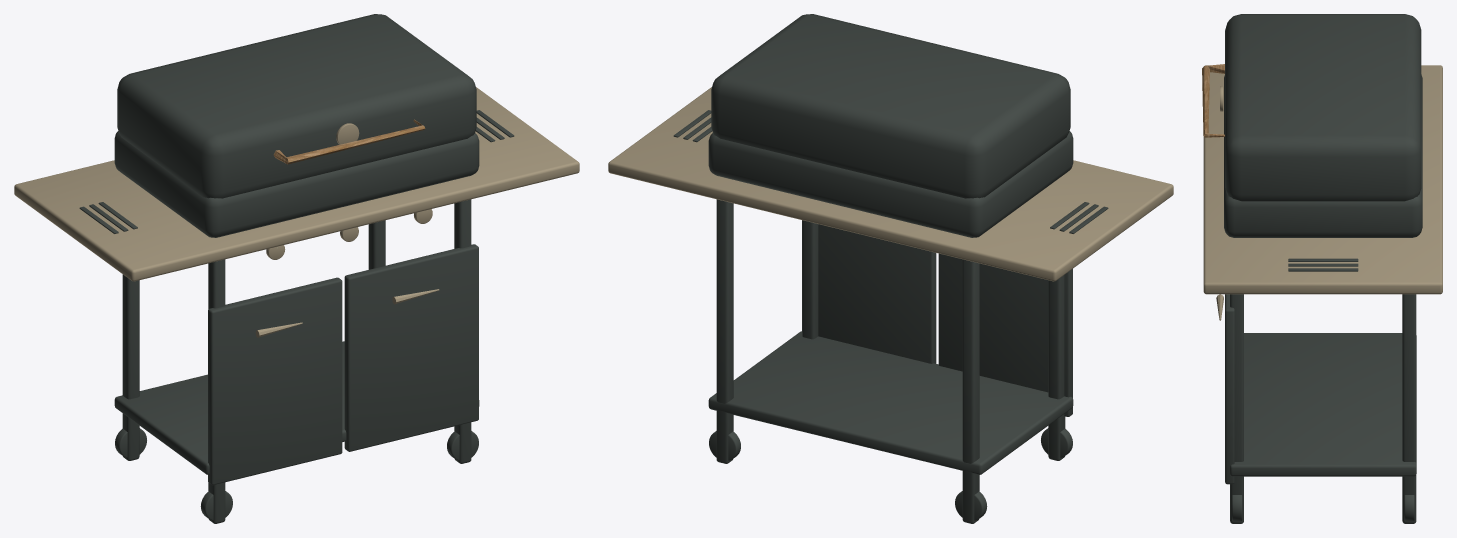
The model's file is gas-bbq.glb.
3 renders of one model, left to right at view 1: azimuth 30°, elevation 25°; view 2: azimuth 150°, elevation 25°; view 3: azimuth 270°, elevation 25°, orthographic.
Parts seen in each view (by area): view 1: catalog_surface_RealismUV; view 2: catalog_surface_RealismUV; view 3: catalog_surface_RealismUV.
Boxes of the visible parts, x1=… form: catalog_surface_RealismUV: x1=14, y1=14, x2=579, y2=523; catalog_surface_RealismUV: x1=608, y1=14, x2=1173, y2=523; catalog_surface_RealismUV: x1=1202, y1=14, x2=1442, y2=523.
Bounding box in the file's own units: 1.4 × 1.15 × 0.65.
4 materials, 1 textured.
